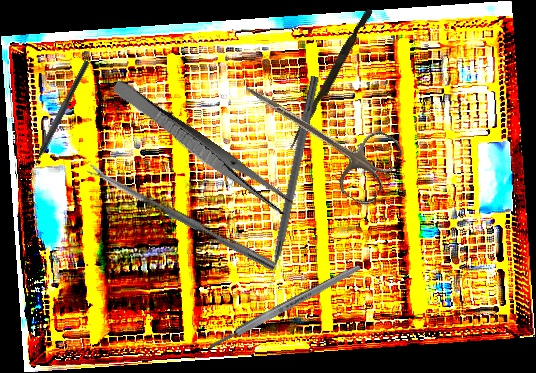Chopper: (20, 56, 91, 177)
Dressing Forceps: (107, 77, 295, 218)
Hook Surgical: (261, 75, 321, 299)
Iris Scissors: (225, 59, 407, 210)
Pusher: (287, 5, 374, 154)
Scalpel Handle: (206, 262, 364, 352)
Surgical Spoon: (86, 163, 278, 271)
